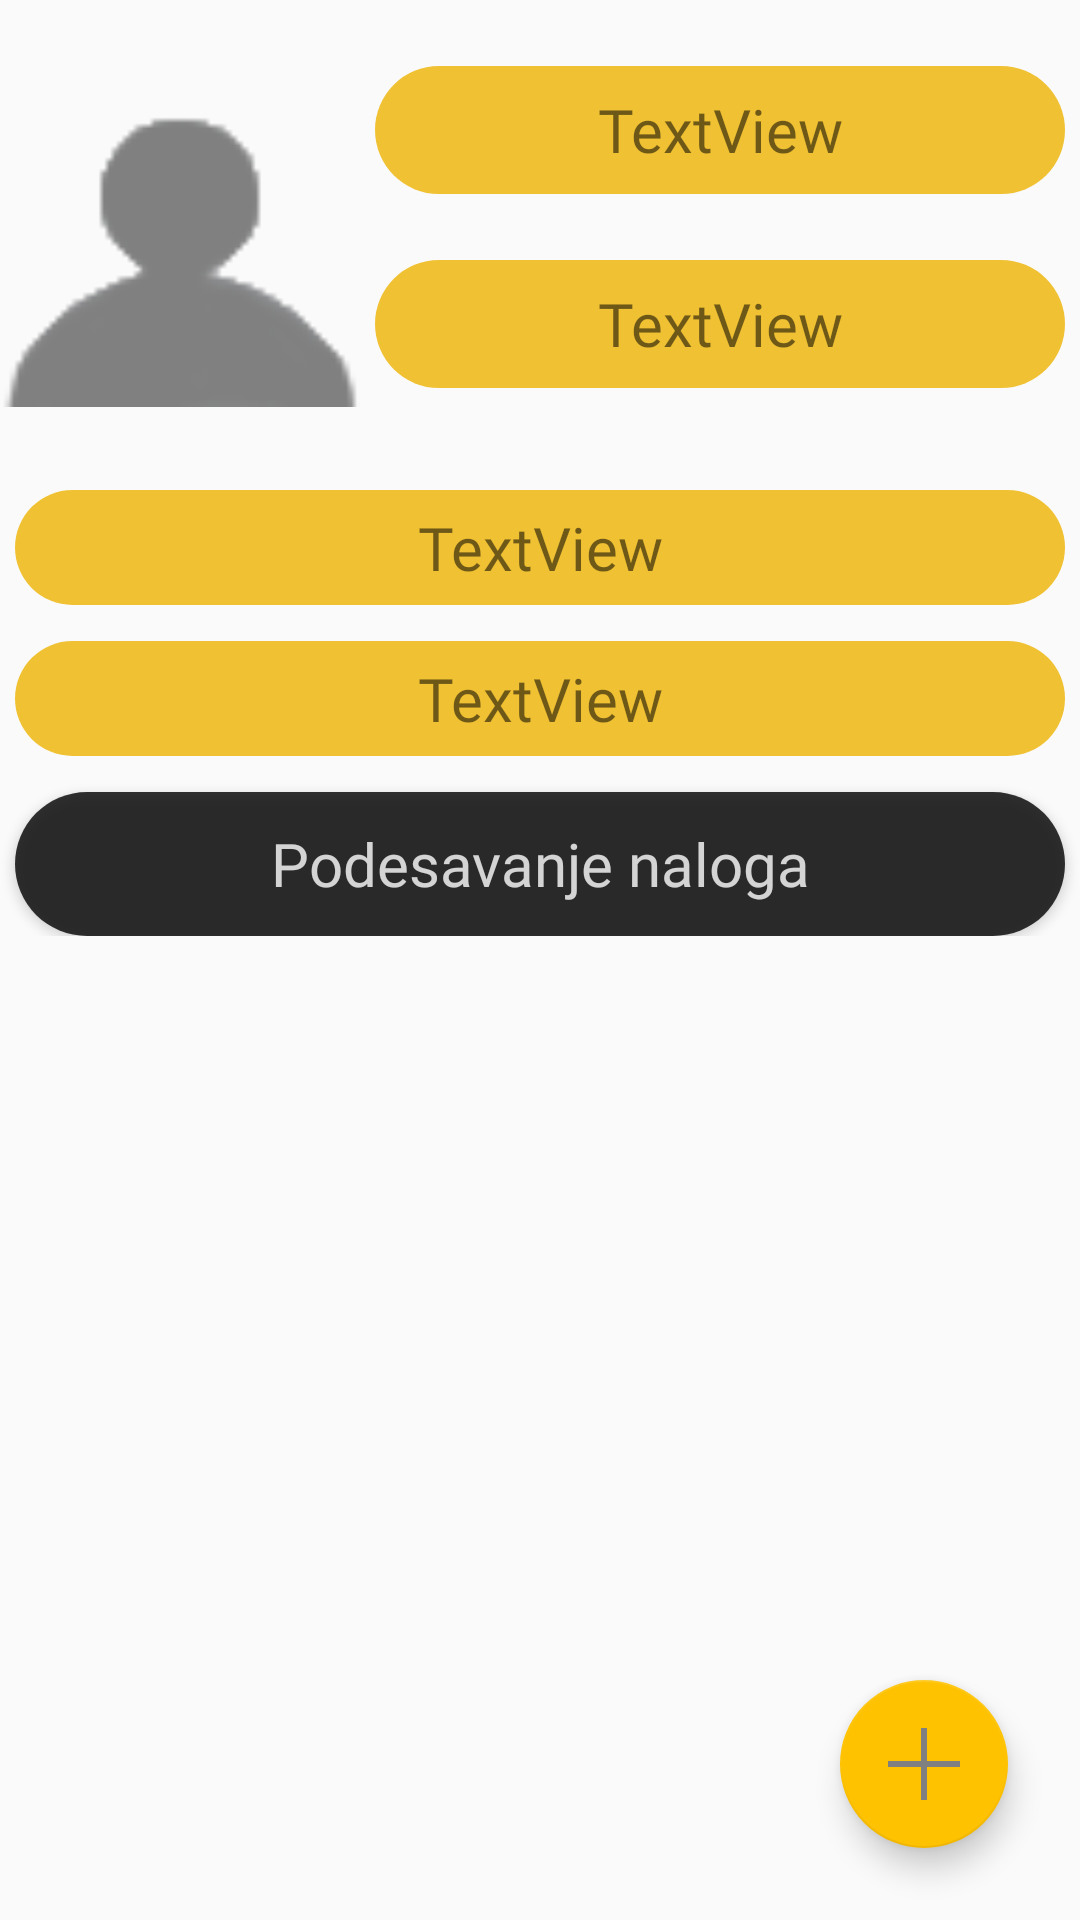

Screen size 1080×1920. Icon name, then its center in pixels as (x,y):
plus: (924,1764)
profil: (181,262)
